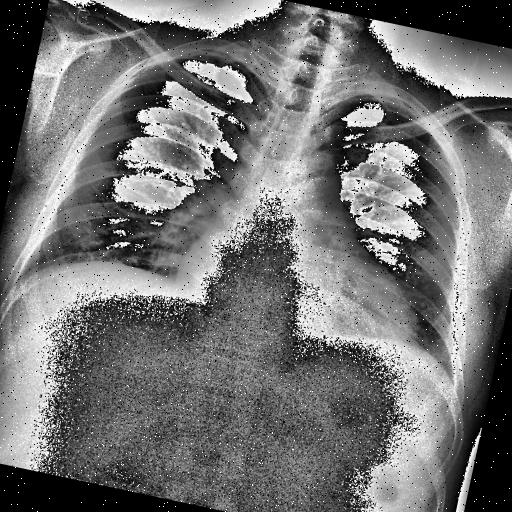3- Cardiomegaly: (166, 244, 424, 372), (170, 235, 426, 346), (171, 249, 427, 340)
